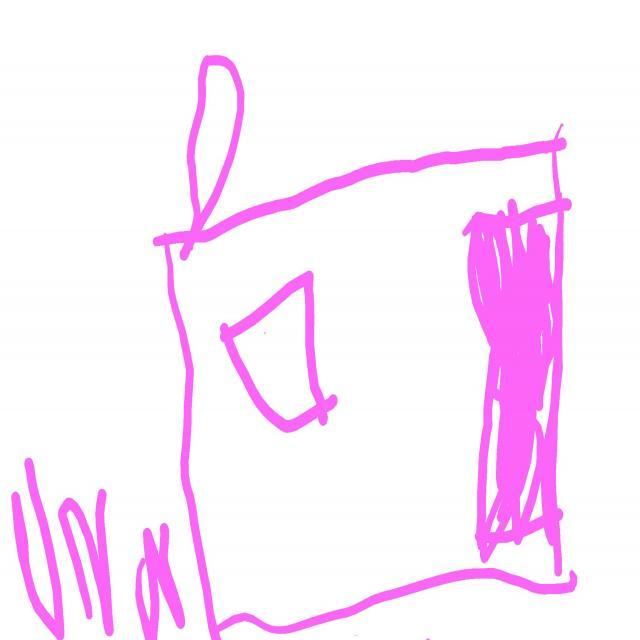chimney: (187, 55, 243, 232)
door: (465, 149, 572, 576)
house: (155, 55, 577, 640)
wall: (155, 147, 573, 633)
window: (220, 271, 337, 432)
